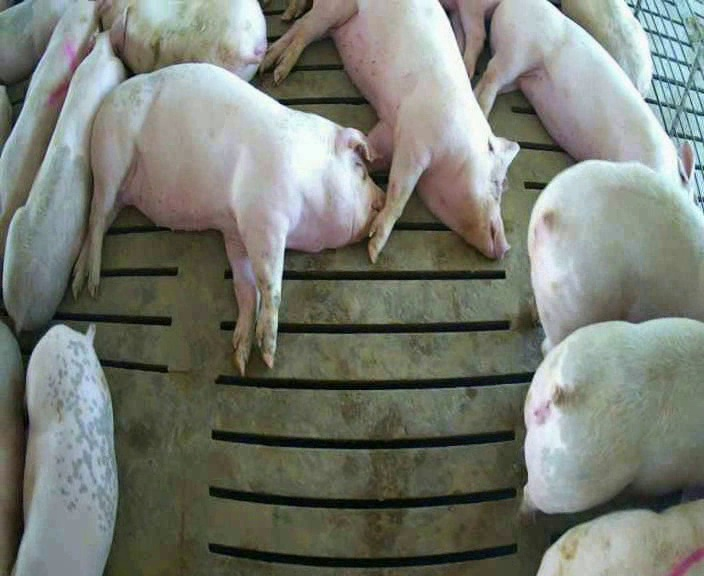pig: (74, 64, 383, 371), (261, 3, 518, 261), (473, 1, 696, 202), (518, 318, 703, 523), (528, 160, 703, 357), (13, 324, 117, 574), (0, 3, 97, 255), (99, 2, 266, 79), (538, 499, 703, 574), (560, 1, 652, 96), (0, 2, 68, 83)
